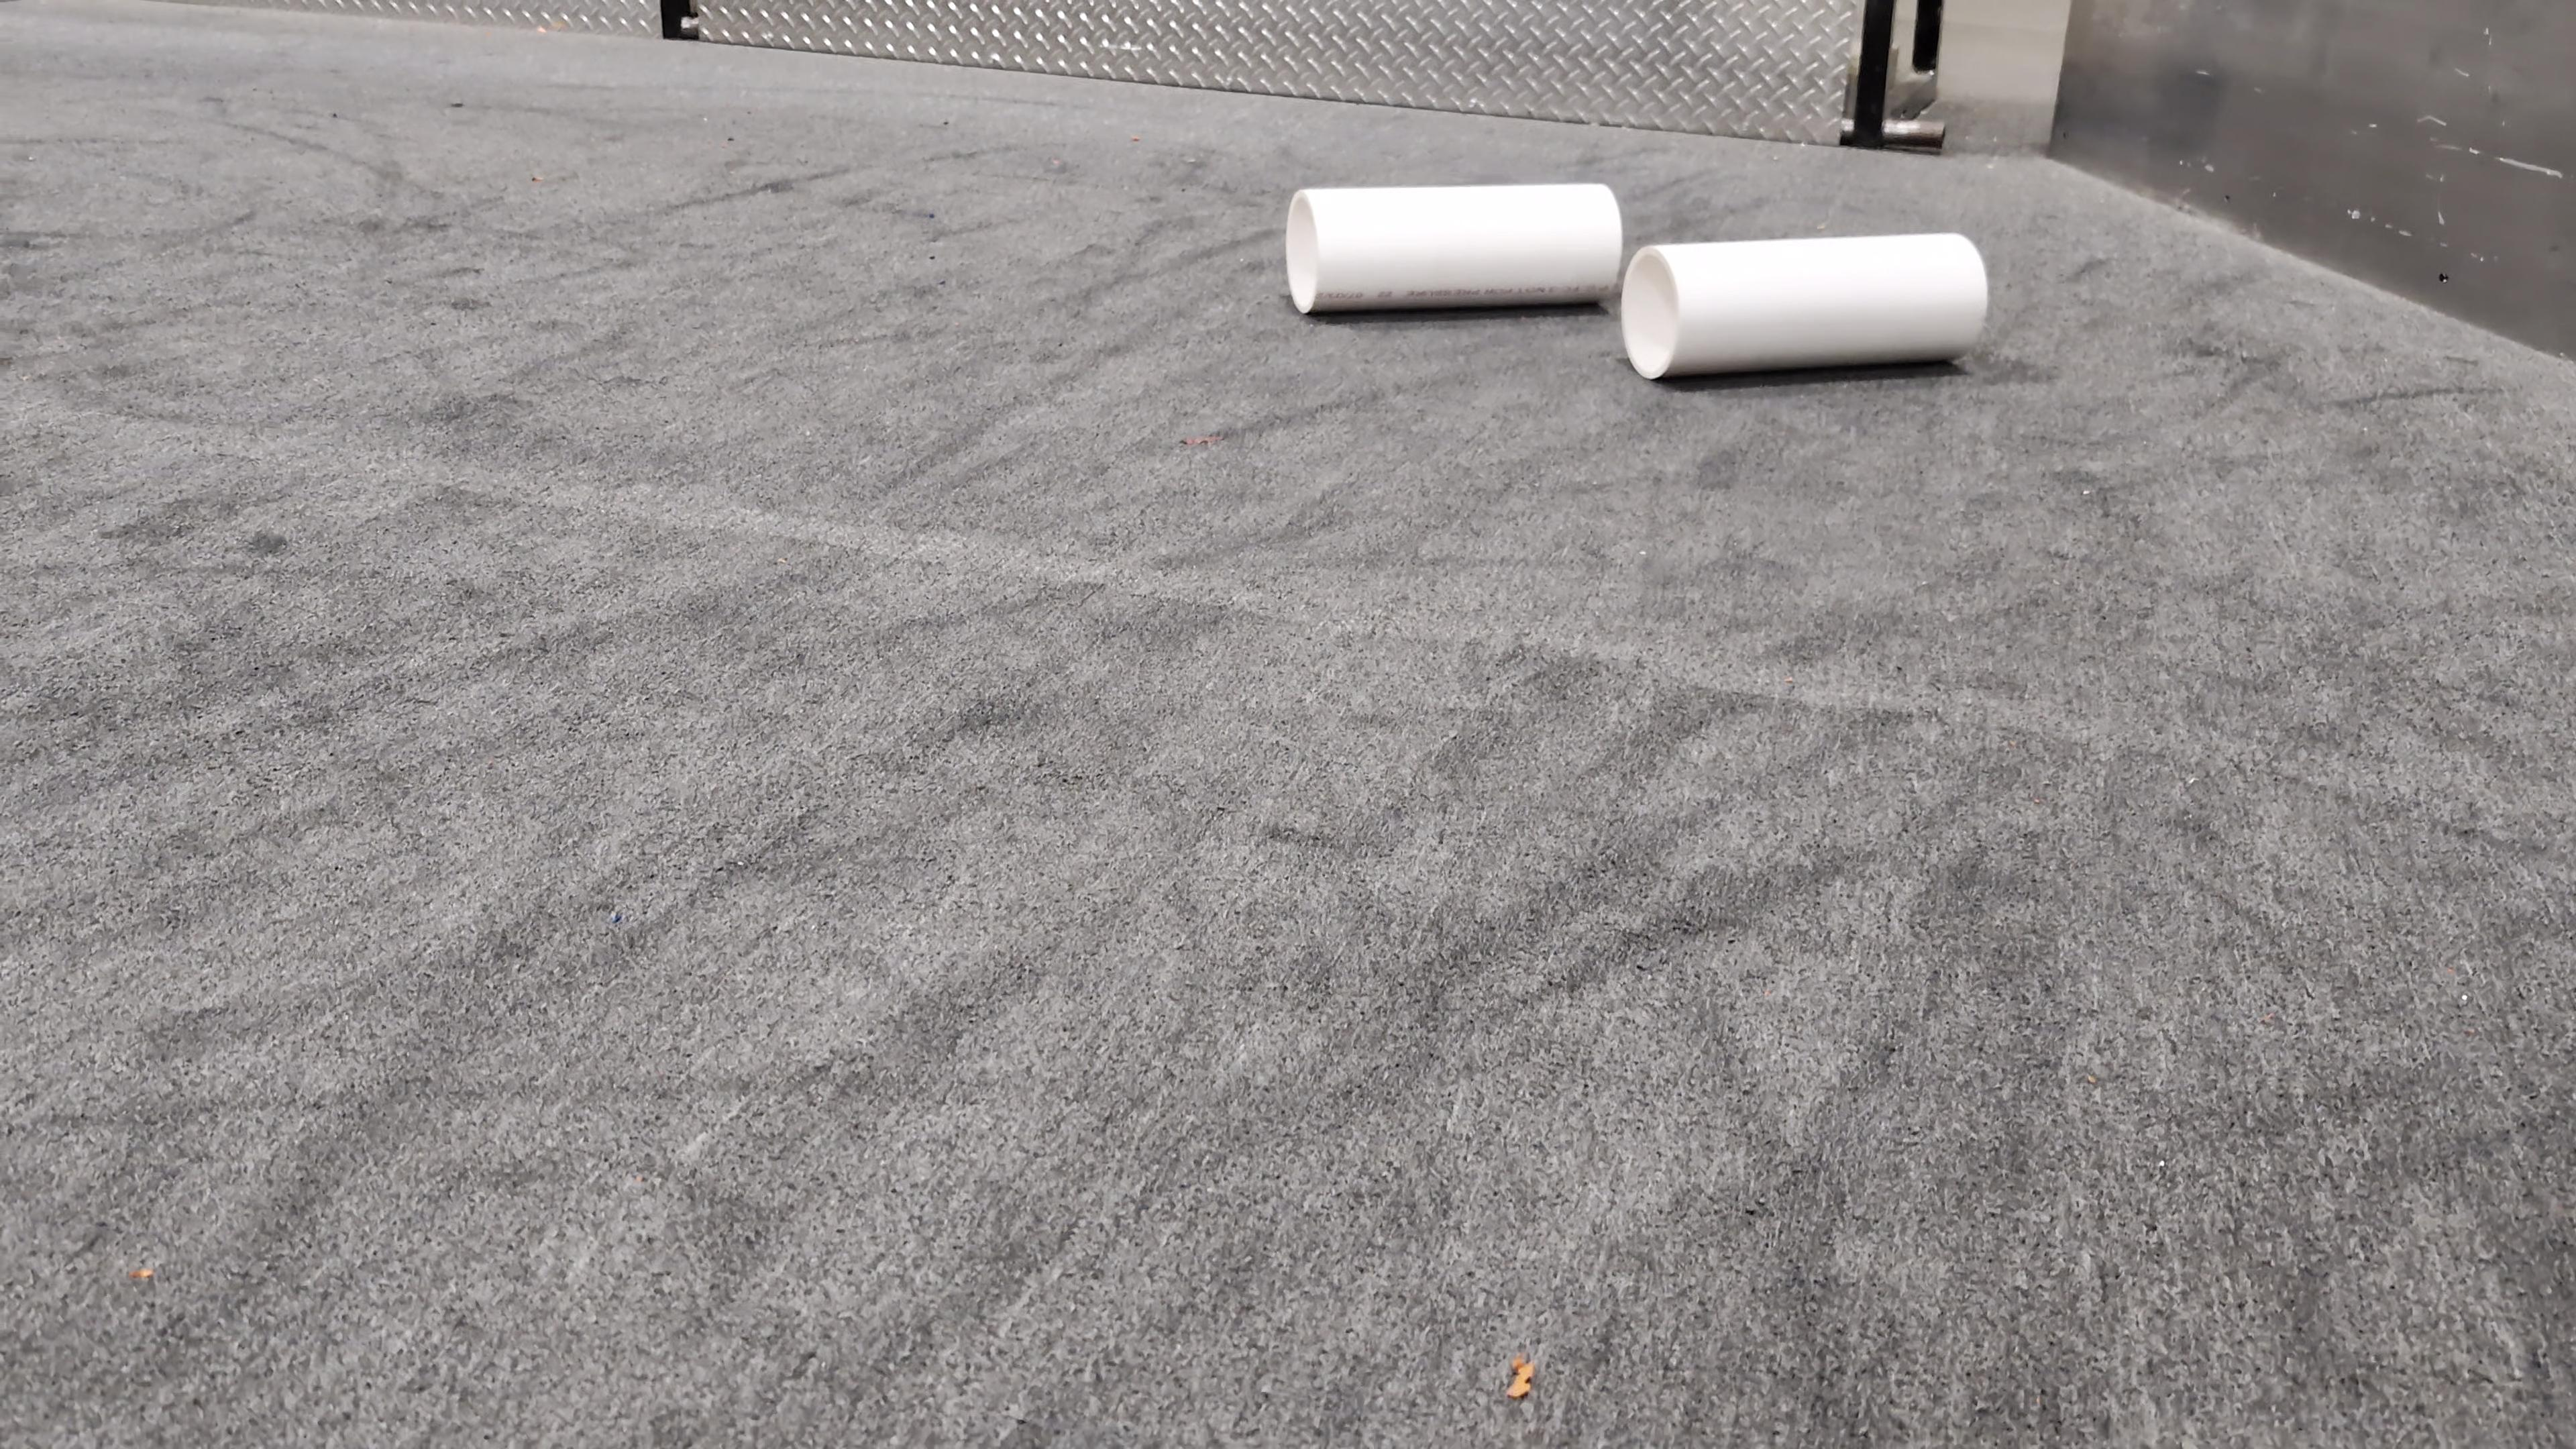coral: (1615, 228, 1989, 377), (1283, 177, 1624, 313)
